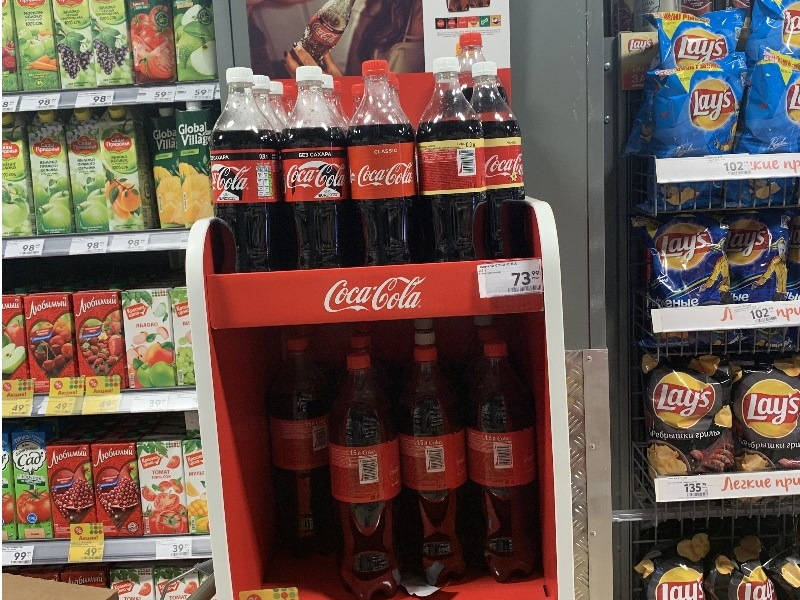chips: (638, 353, 740, 477), (625, 213, 738, 308), (731, 354, 799, 473)
juice: (95, 105, 159, 231), (23, 110, 82, 239), (58, 108, 116, 237)
lemonade: (396, 345, 482, 592), (326, 349, 411, 596), (464, 340, 544, 584), (414, 55, 492, 274), (202, 59, 278, 276), (349, 58, 423, 269), (280, 61, 350, 272), (478, 53, 540, 266)
